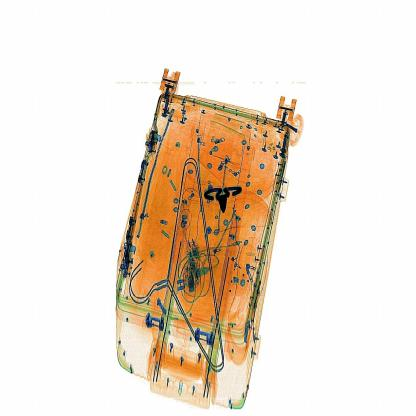gun: (197, 174, 247, 214)
